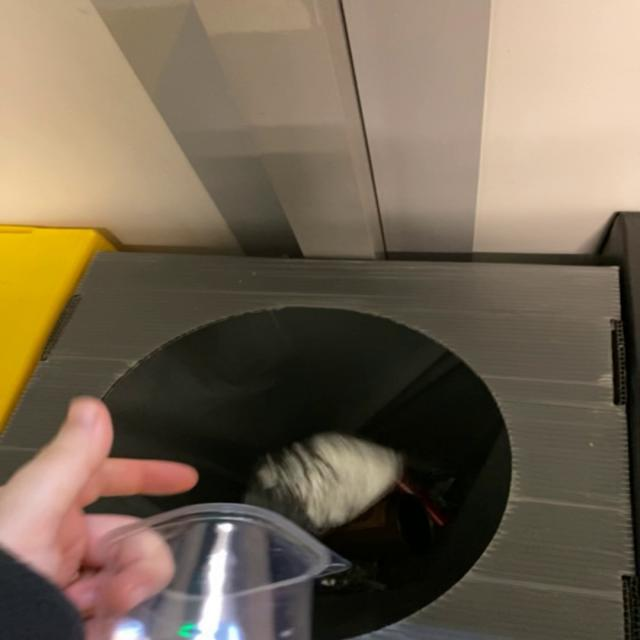bin: (1, 252, 635, 640)
metal: (244, 432, 402, 536)
